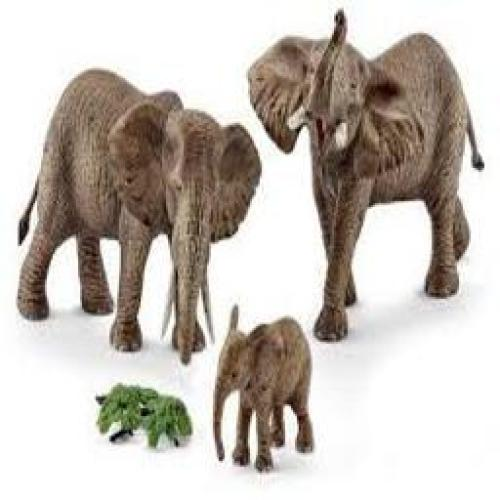african_elephant-endangered: (242, 1, 487, 347), (11, 55, 265, 351), (205, 299, 317, 476)
